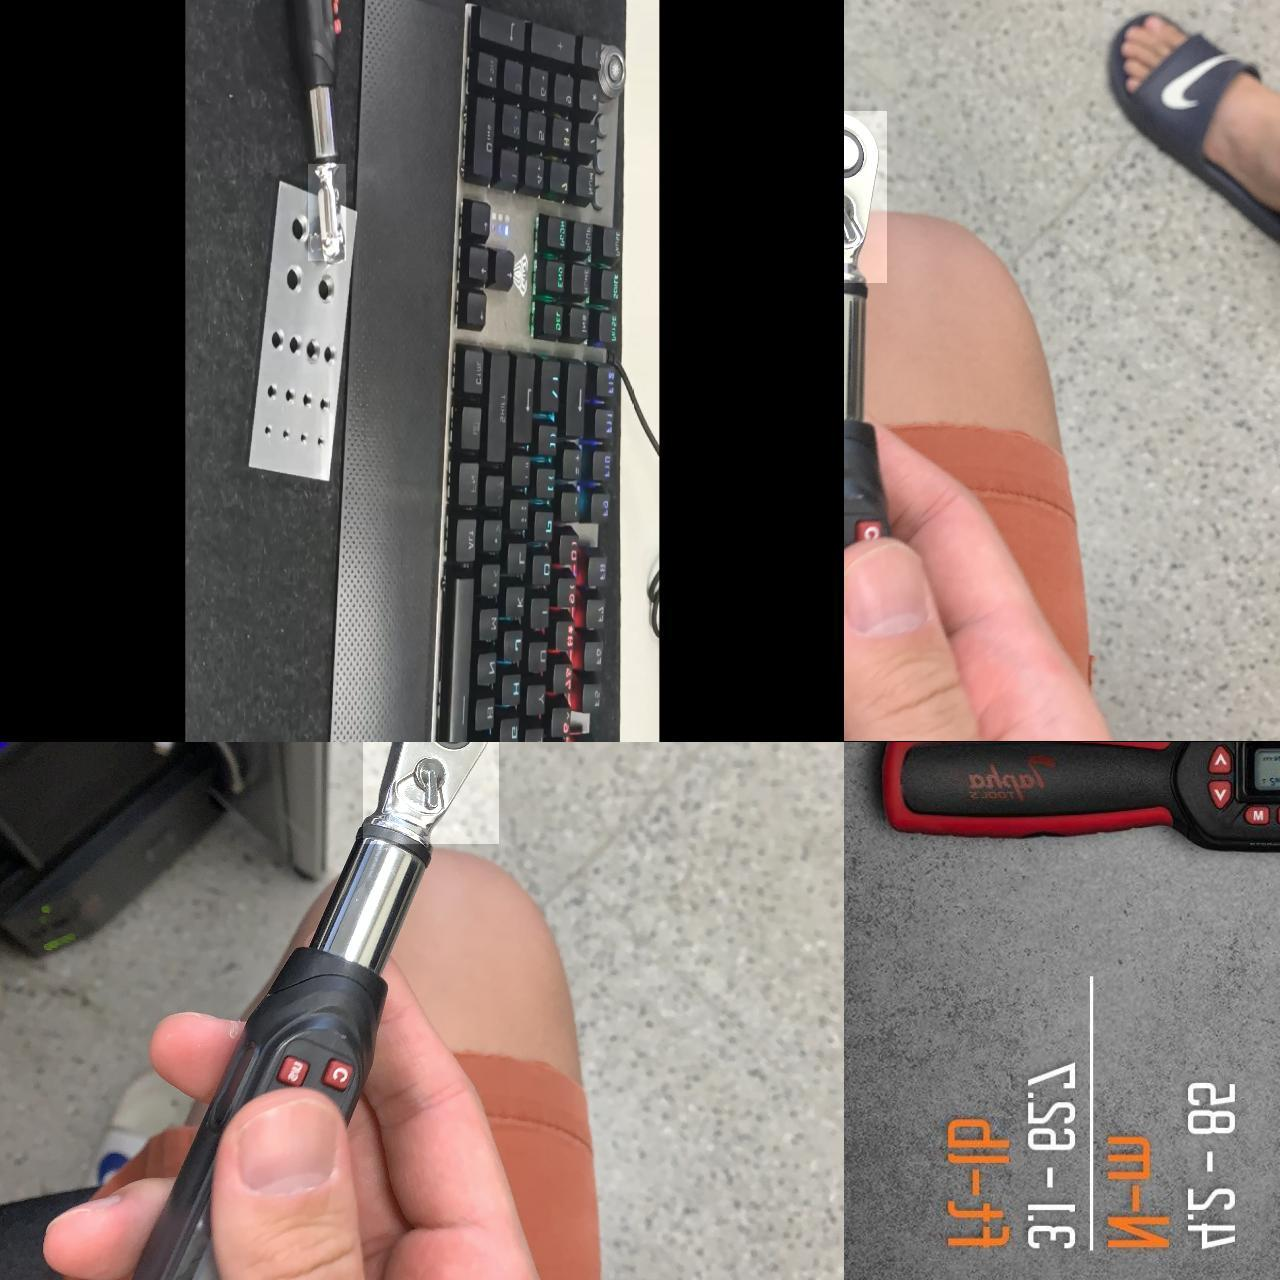Tool: (362, 742, 498, 844), (844, 111, 886, 282), (307, 164, 346, 261)
